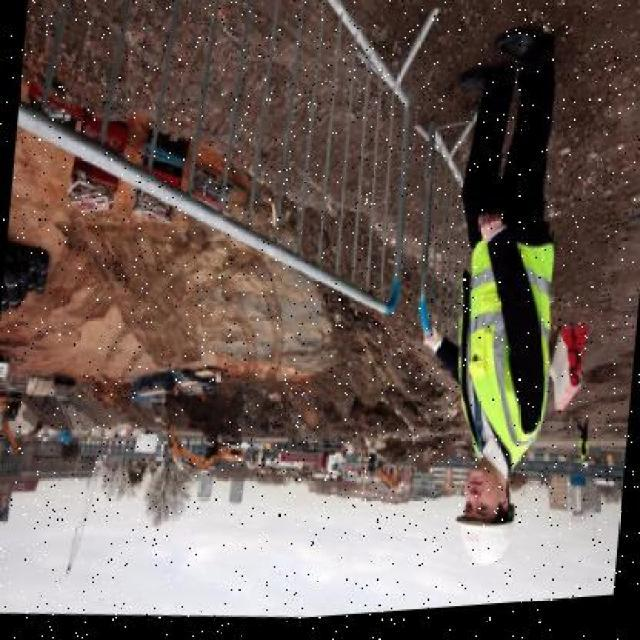helmet: (451, 513, 519, 577)
vest: (440, 214, 564, 469)
